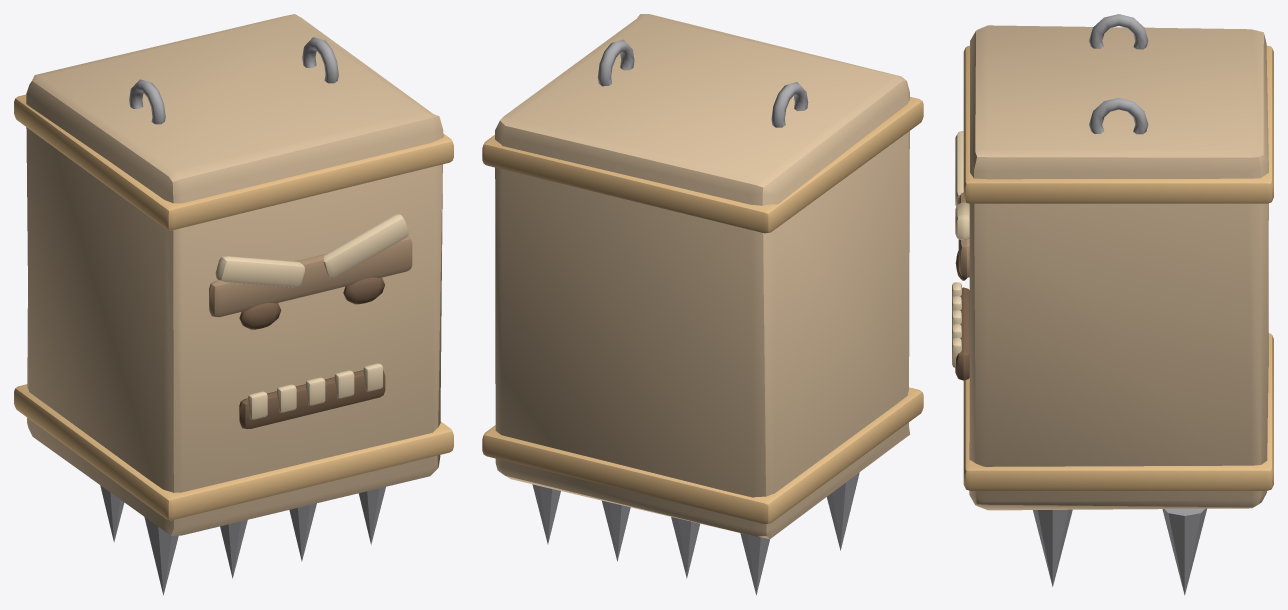
File: crusher.glb
3 renders of one model, left to right at view 1: azimuth 30°, elevation 25°; view 2: azimuth 150°, elevation 25°; view 3: azimuth 270°, elevation 25°, orthographic.
Visible parts, largest first — view 1: crusher; view 2: crusher; view 3: crusher.
Boxes of the visible parts, x1,y1,x2,y2 form: crusher: (14,14,453,595); crusher: (482,14,923,595); crusher: (952,14,1273,595).
Bounding box in the file's own units: 1 × 1.61 × 0.975.
